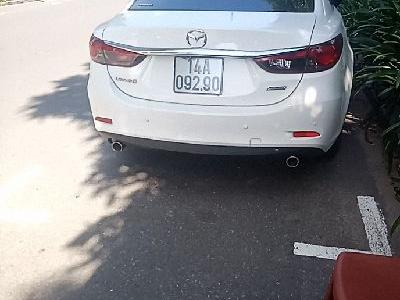number: (174, 51, 223, 96)
